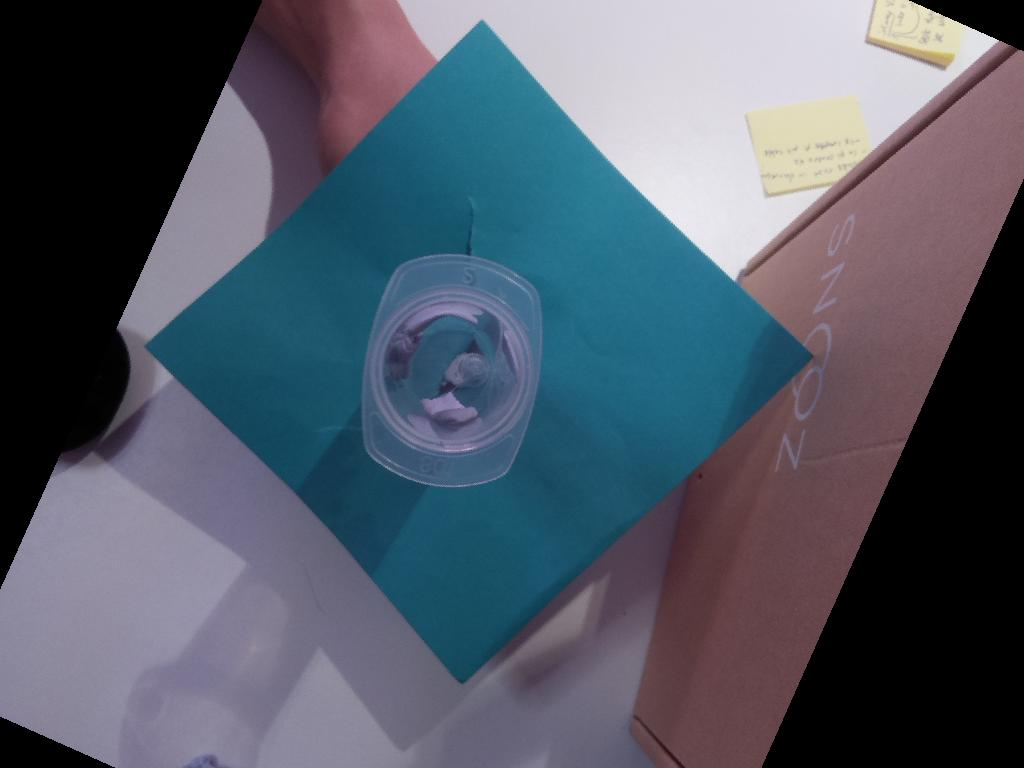dirty: (361, 254, 543, 489)
